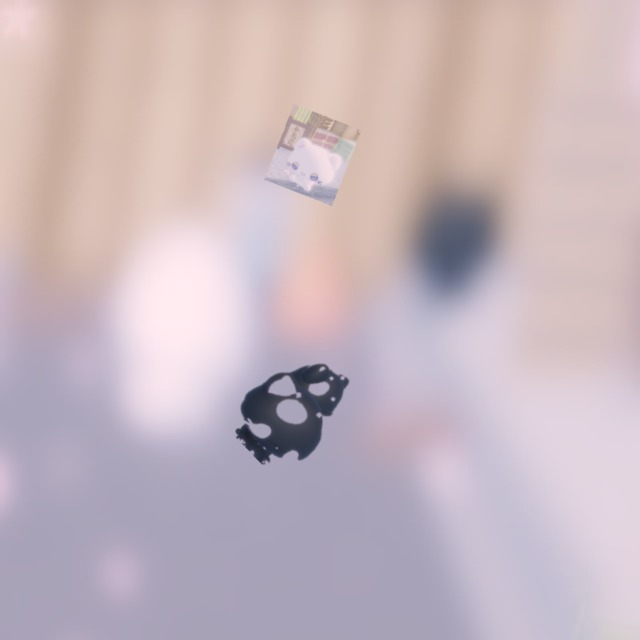urso_branco: (264, 104, 362, 206)
urso_preto: (216, 327, 380, 490)
